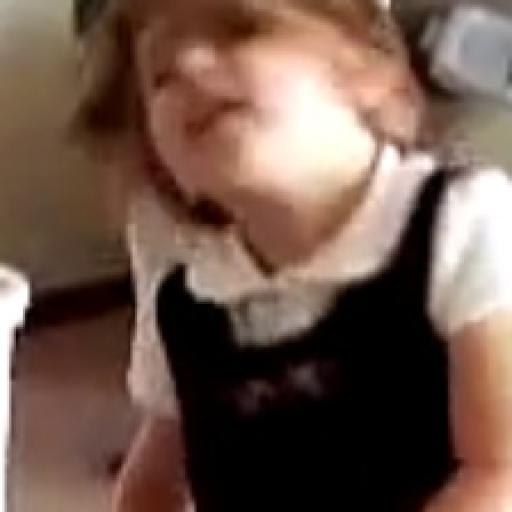Autism: (78, 0, 473, 299)
